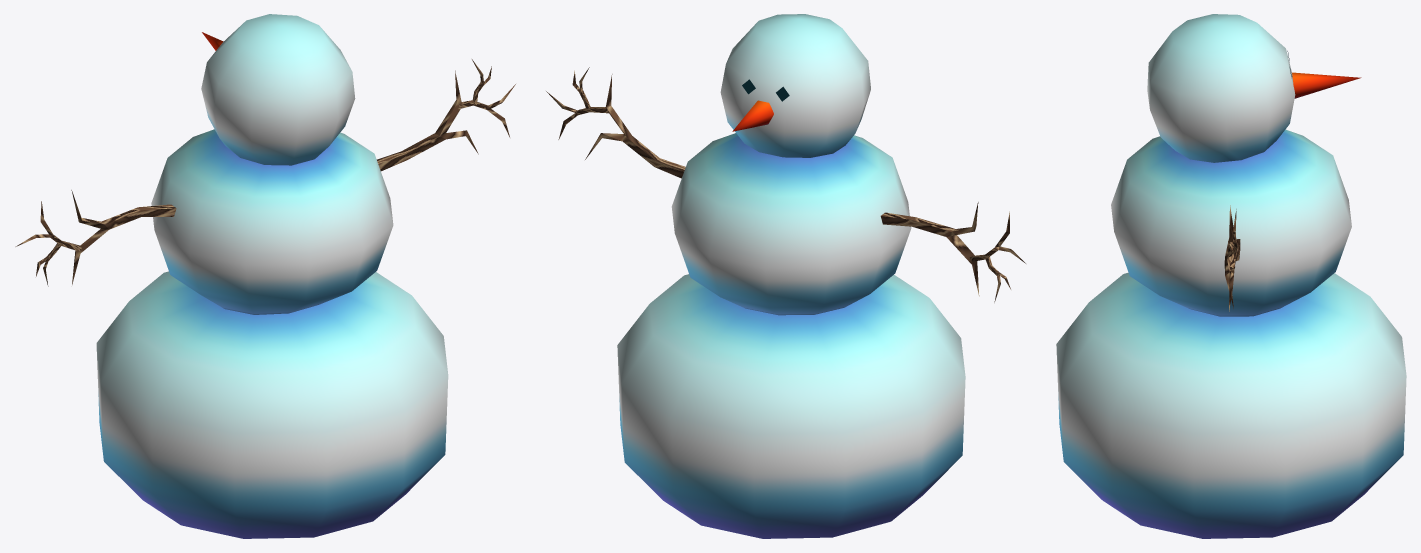
File: Snowman_01.fbx
3 views of the same model, side by side, from view 1: azimuth 30°, elevation 25°; view 2: azimuth 150°, elevation 25°; view 3: azimuth 270°, elevation 25° (orthographic).
Visible parts, largest first — view 1: Snowman_01; view 2: Snowman_01; view 3: Snowman_01.
Boxes of the visible parts, box(x1,y1,x2,y2) form: Snowman_01: box(15, 14, 515, 538); Snowman_01: box(546, 14, 1025, 538); Snowman_01: box(1056, 14, 1406, 538).
Bounding box in the file's own units: 154 × 138 × 94.94.
